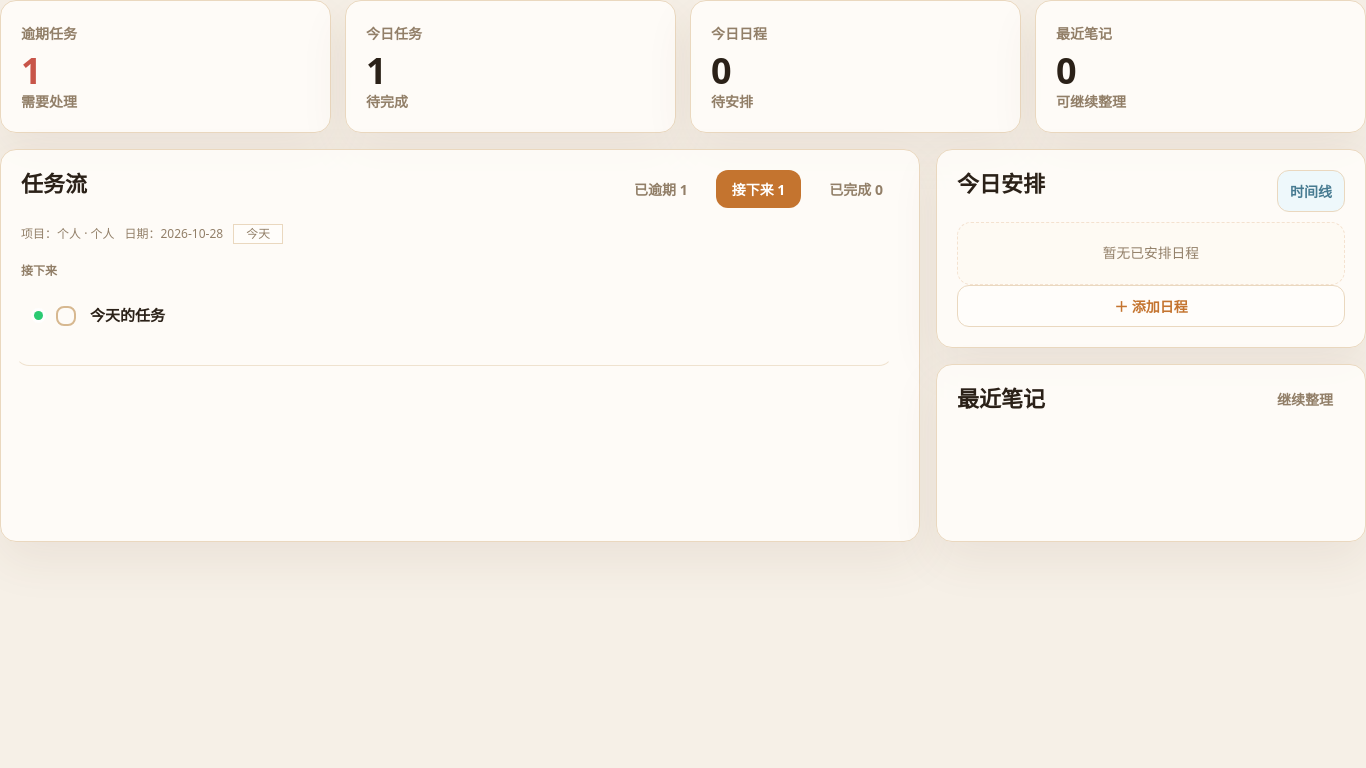
Scenario: Dashboard task project cache › keeps next selected by default and shows only incomplete overdue tasks on demand
Expected: the text "今天的任务" is shown, 90,305 -> 165,325
Expected: the text "补齐逾期报告" is not shown
Click the button "已逾期 1".
click(661, 189)  # box 618,170 -> 704,208
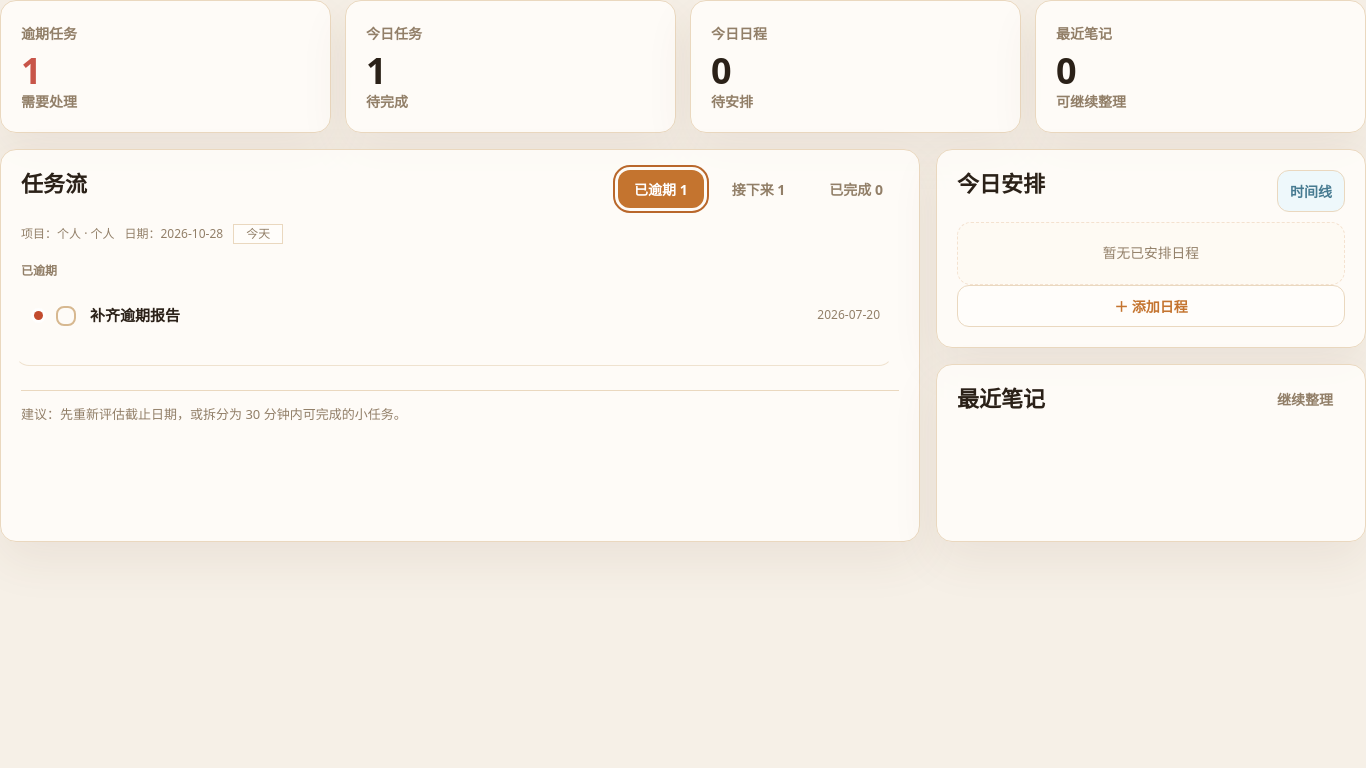
Result: the text "补齐逾期报告" is shown at 90,305 -> 180,325
Result: the button "今天的任务" is gone
